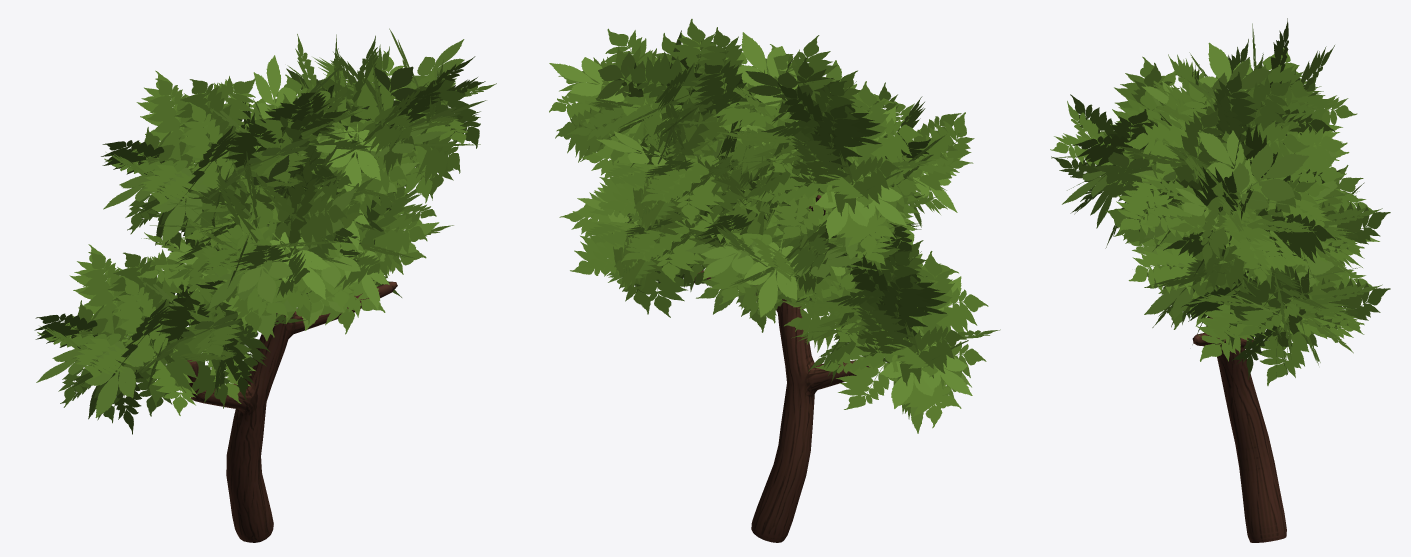
Rendered from SM_Common_Tree_03.glb.
3 renders of one model, left to right at view 1: azimuth 30°, elevation 25°; view 2: azimuth 150°, elevation 25°; view 3: azimuth 270°, elevation 25°, orthographic. The views are drawn at different scales.
Visible parts, largest first — view 1: SM_Common_Tree_03; view 2: SM_Common_Tree_03; view 3: SM_Common_Tree_03.
Part boxes in pixels (left/top/right/bottom): SM_Common_Tree_03: left=34, top=28, right=496, bottom=542; SM_Common_Tree_03: left=549, top=19, right=1000, bottom=542; SM_Common_Tree_03: left=1050, top=18, right=1390, bottom=542.
Bounding box in the file's own units: 6.45 × 6.74 × 4.34.
2 materials, 2 textured.
